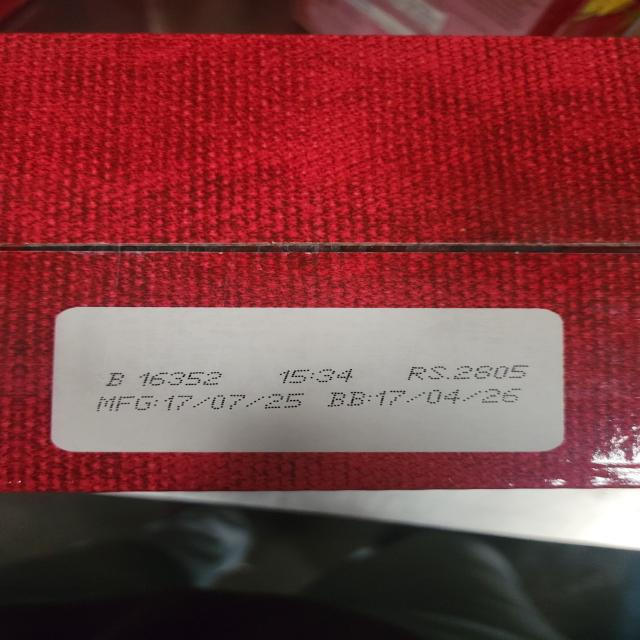BB: (328, 387, 526, 407)
Batch: (104, 372, 225, 387)
MFG: (96, 394, 297, 412)
RS: (408, 364, 534, 380)
TimeStamp: (278, 368, 356, 384)
